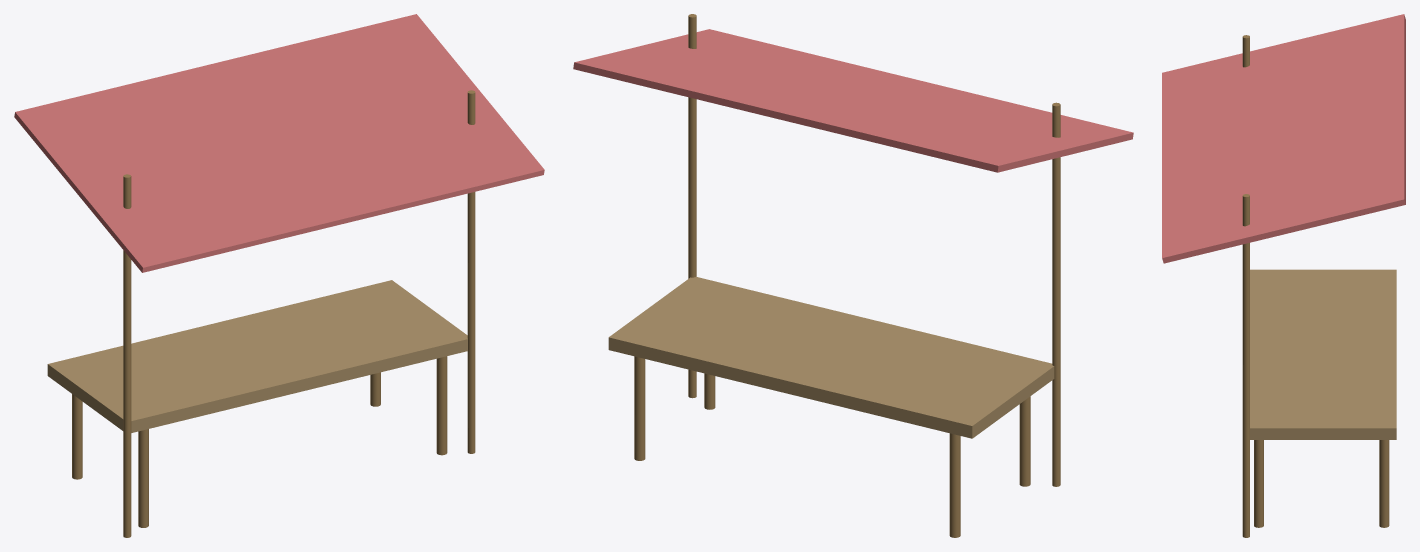
The model's file is env-med-market.glb.
3 renders of one model, left to right at view 1: azimuth 30°, elevation 25°; view 2: azimuth 150°, elevation 25°; view 3: azimuth 270°, elevation 25°, orthographic. The views are drawn at different scales.
Bounding box in the file's own units: 3.5 × 3.08 × 1.94.
